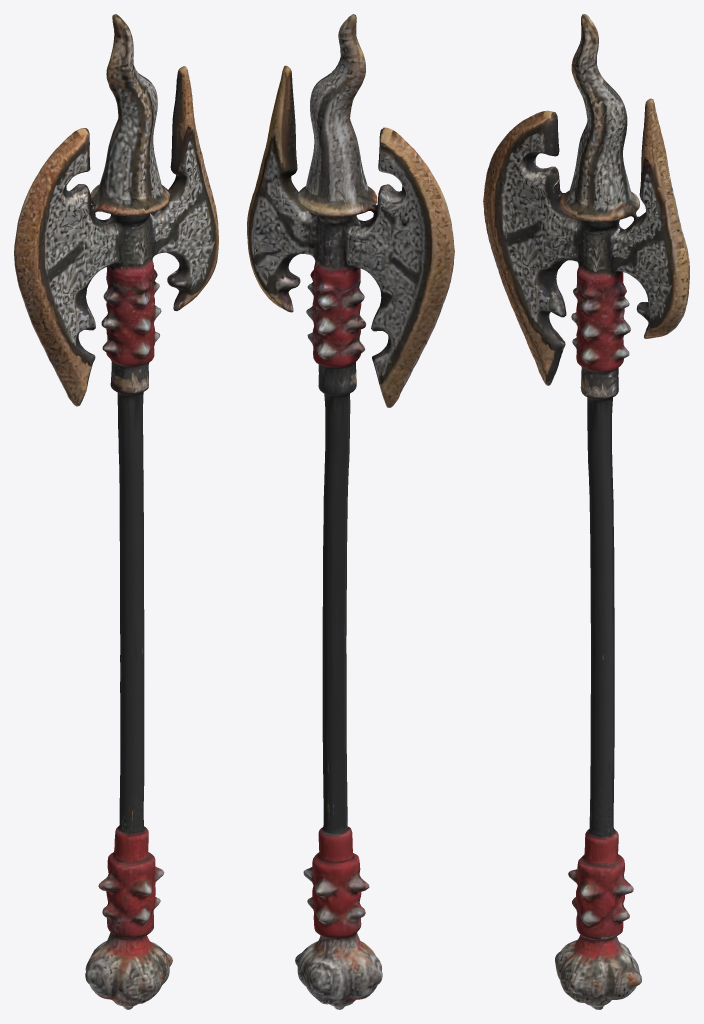
The model's file is dwarven_axe_LOD.fbx.
3 renders of one model, left to right at view 1: azimuth 30°, elevation 25°; view 2: azimuth 150°, elevation 25°; view 3: azimuth 330°, elevation 25°, orthographic.
Parts seen in each view (by area): view 1: dwarven_axe_LOD0; view 2: dwarven_axe_LOD0; view 3: dwarven_axe_LOD0.
Part boxes in pixels (x1=…): dwarven_axe_LOD0: x1=14, y1=14, x2=218, y2=1009; dwarven_axe_LOD0: x1=247, y1=14, x2=454, y2=1009; dwarven_axe_LOD0: x1=483, y1=14, x2=689, y2=1009.
Size of what is drawn, in the model's own units: 41.1 by 191 by 16.77.
Materials: 1 (1 with a texture image).
